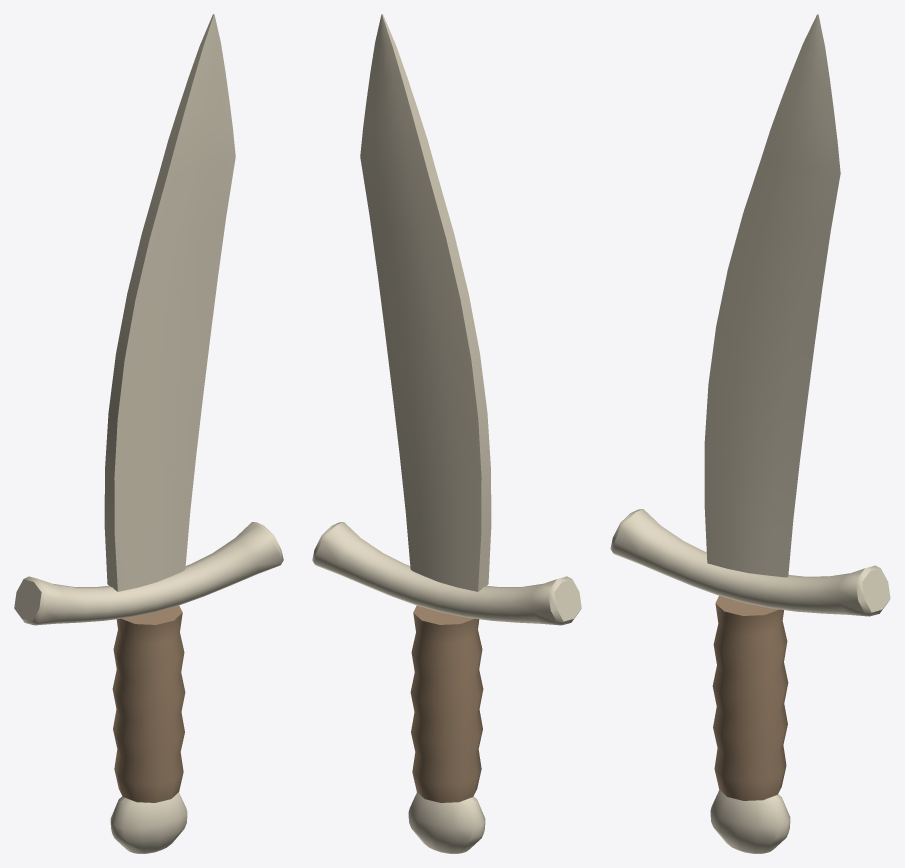
File: bonebite.glb
The picture shows the model from 3 angles, left to right: view 1: azimuth 30°, elevation 25°; view 2: azimuth 150°, elevation 25°; view 3: azimuth 330°, elevation 25°; orthographic projection. The views are drawn at different scales.
Parts seen in each view (by area): view 1: bonebite; view 2: bonebite; view 3: bonebite.
Boxes of the visible parts, x1,y1,x2,y2 form: bonebite: (14,14,283,853); bonebite: (312,14,581,853); bonebite: (610,14,890,853).
Size of the model in its own units: 0.1258 by 0.3882 by 0.0299.
